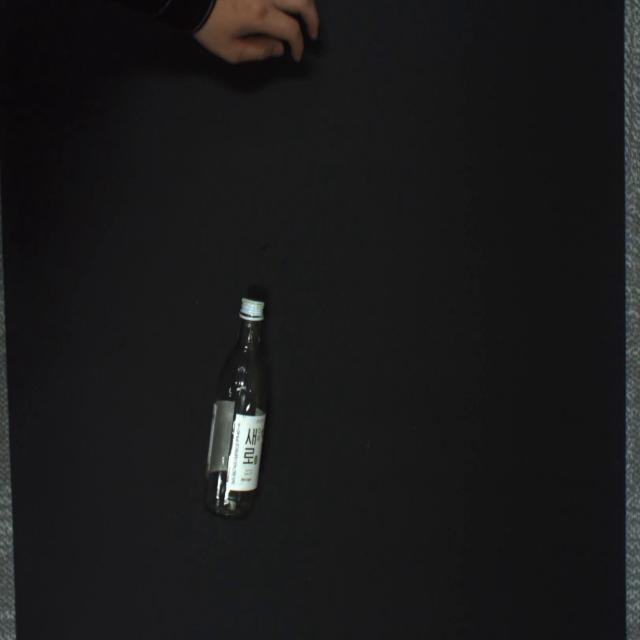soju-bottle: (202, 297, 269, 519)
